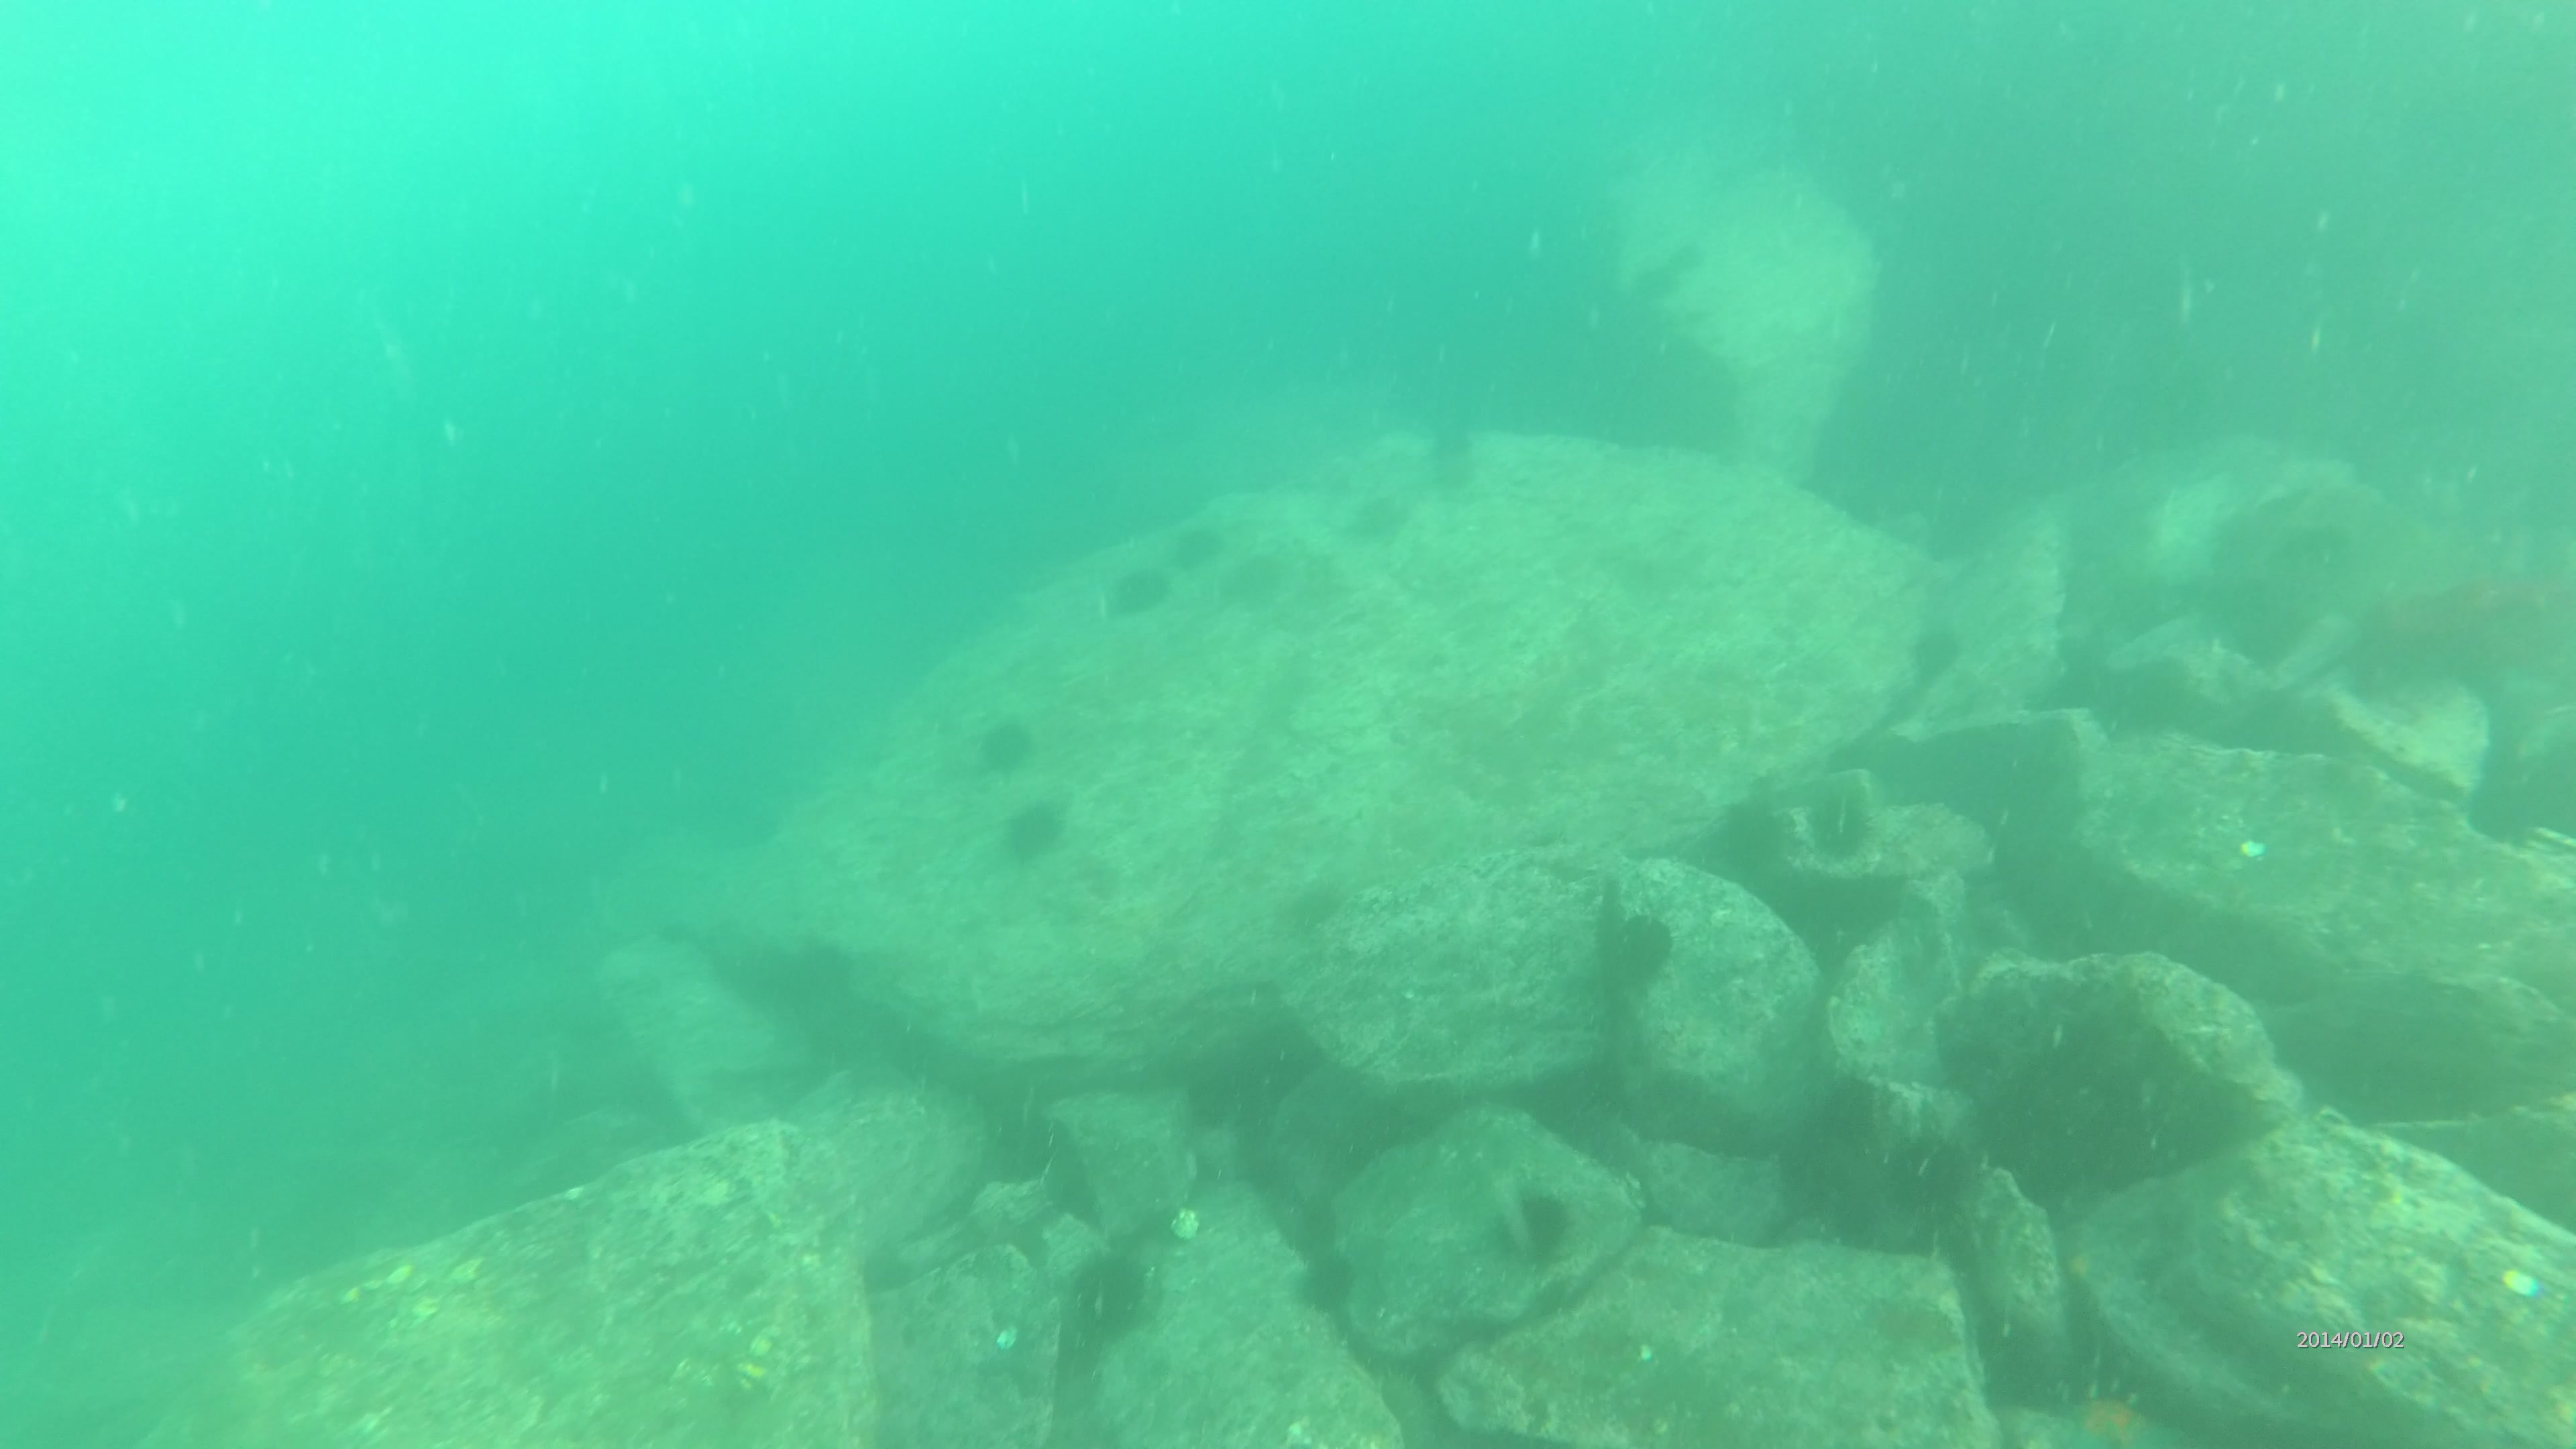echinus: (1063, 1260, 1150, 1359), (784, 931, 872, 1012), (1805, 784, 1882, 867), (1493, 1180, 1576, 1256), (1601, 908, 1675, 987), (1813, 1070, 1886, 1152), (1893, 1136, 1967, 1214), (1001, 796, 1070, 869), (1907, 610, 1973, 686), (1219, 545, 1281, 616), (1302, 1246, 1362, 1316), (1824, 1189, 1879, 1263), (1421, 405, 1488, 465), (1100, 563, 1171, 619), (1624, 253, 1686, 311), (975, 717, 1035, 775), (1169, 511, 1219, 561)
starfish: (2059, 1391, 2173, 1449)
